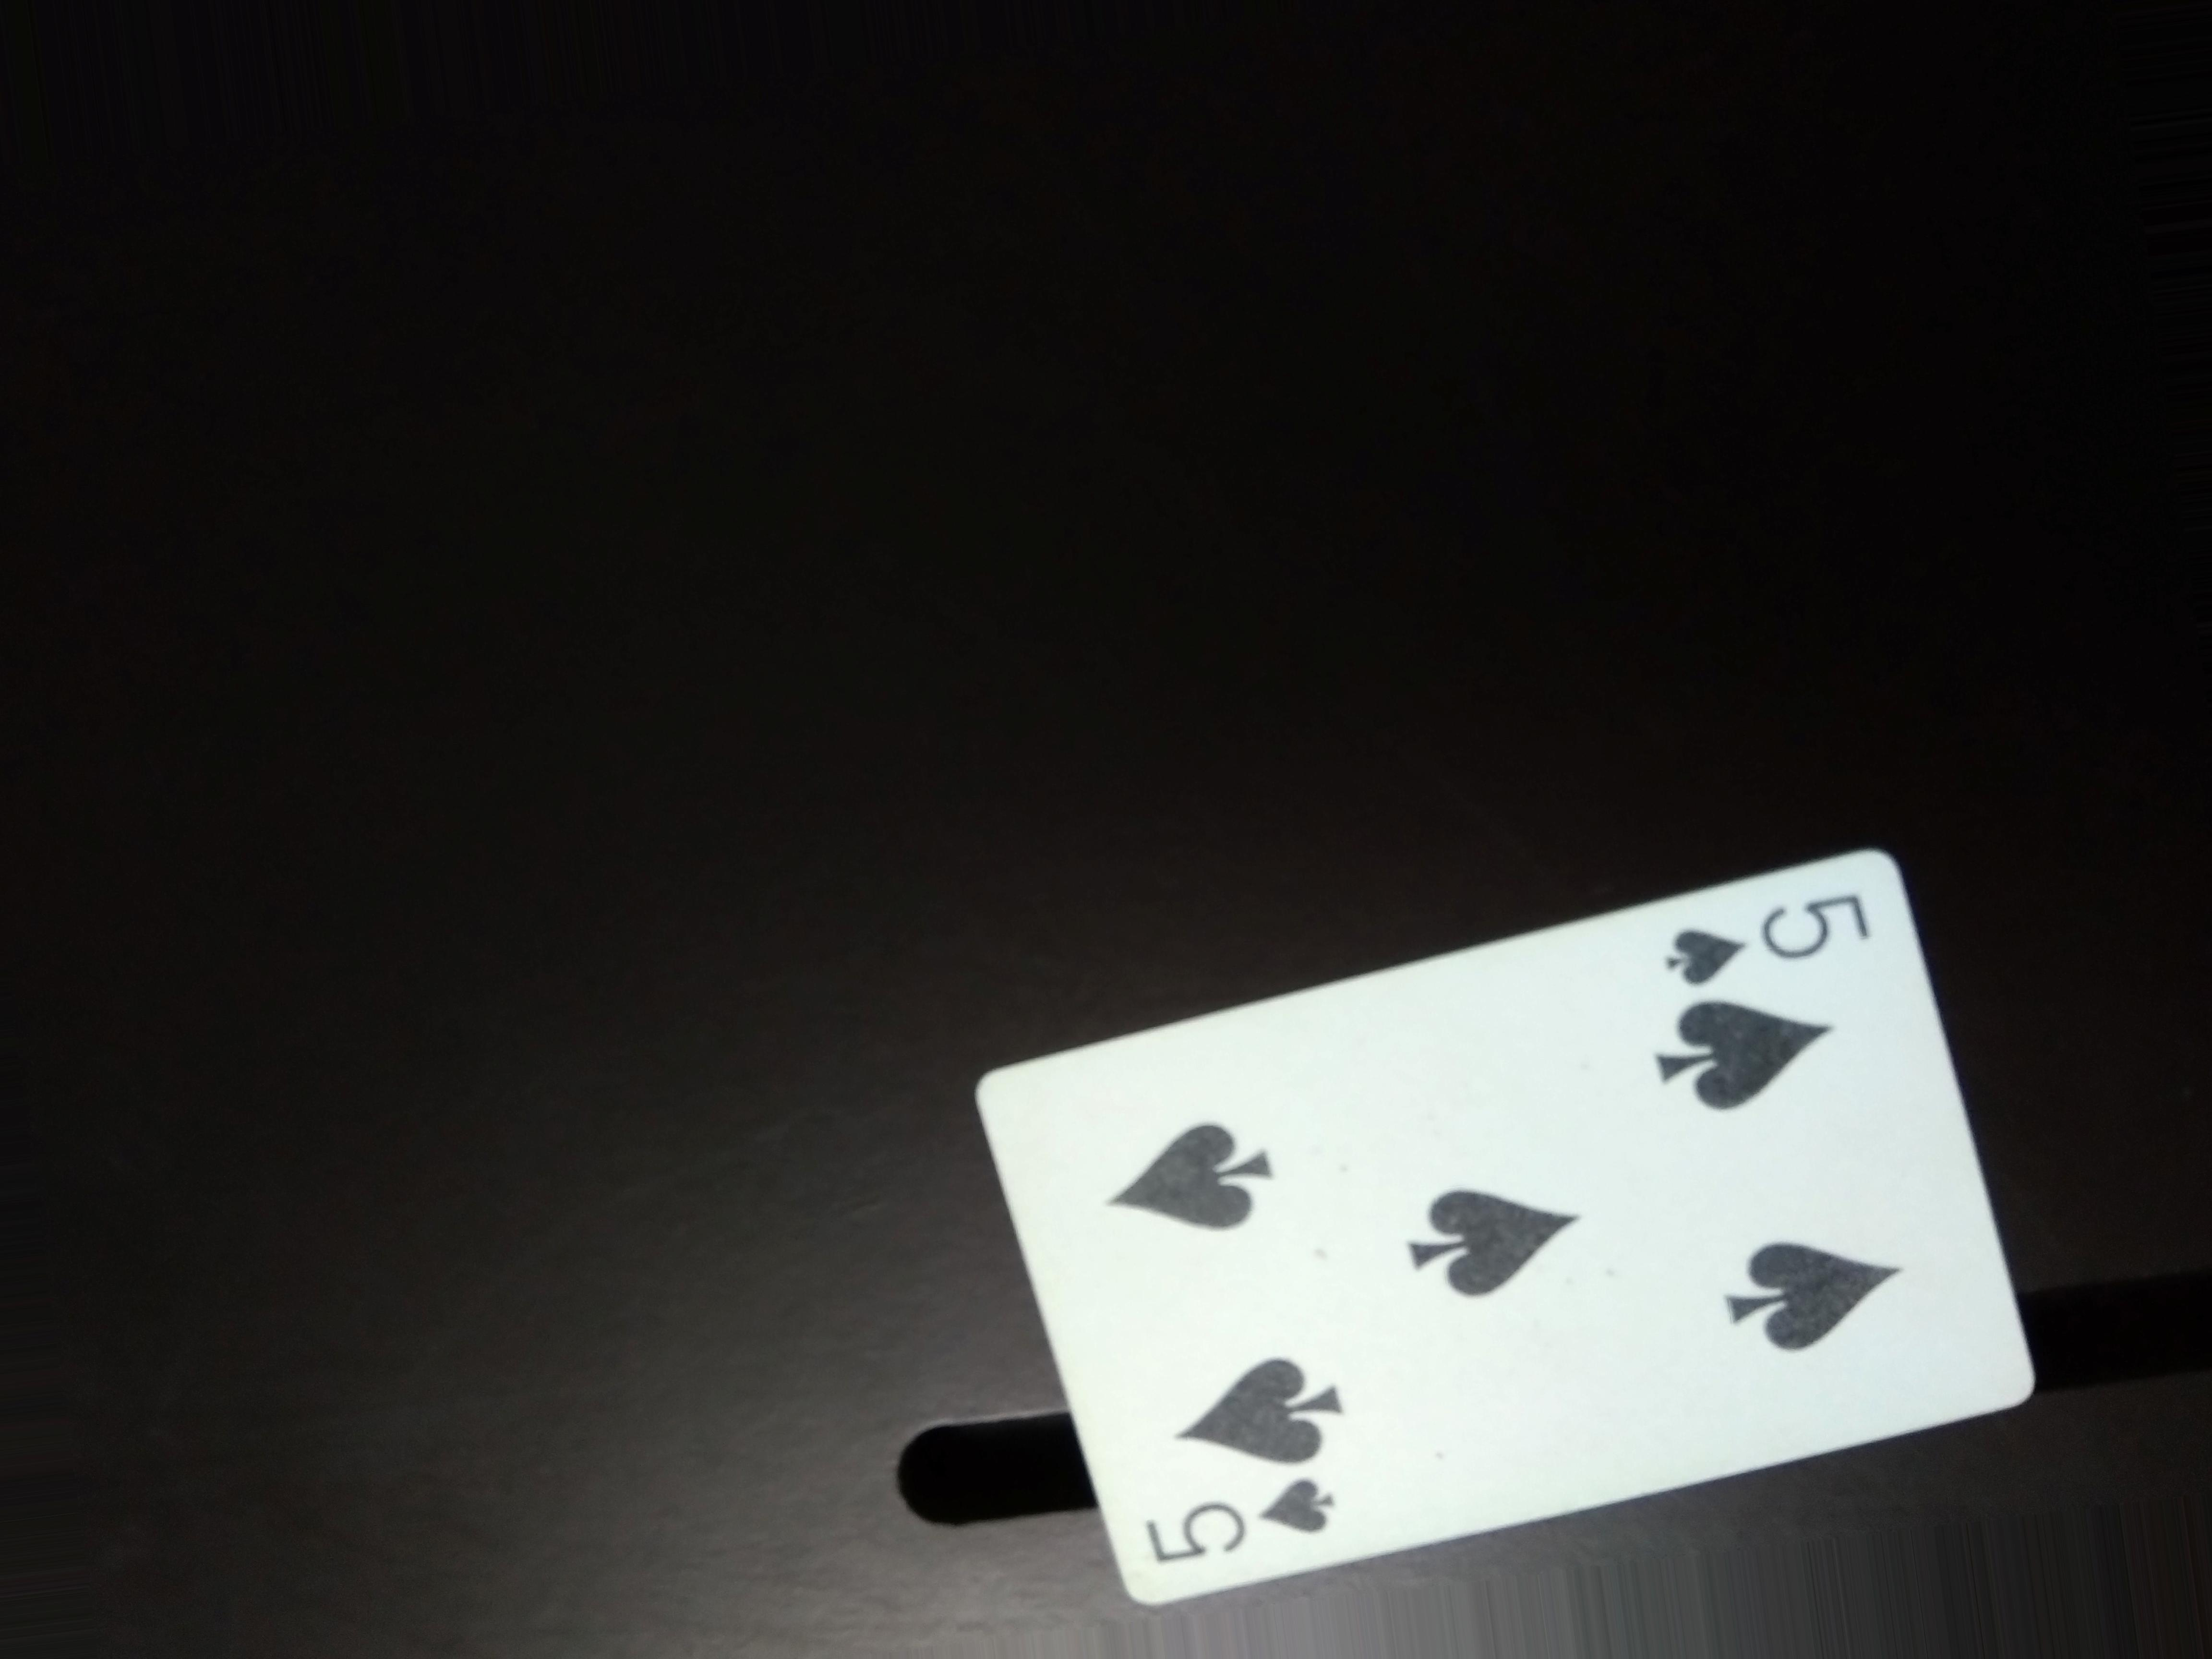5S: (1623, 889, 1909, 974)
